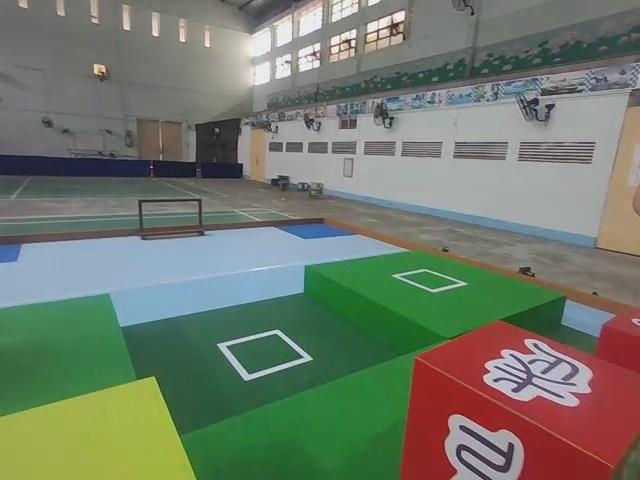R2 Fake: (400, 313, 640, 480)
